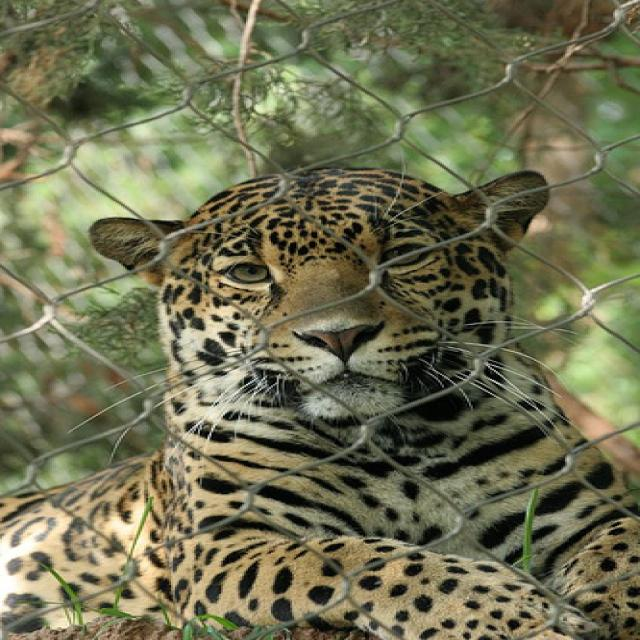Leopard: (0, 161, 634, 636)
